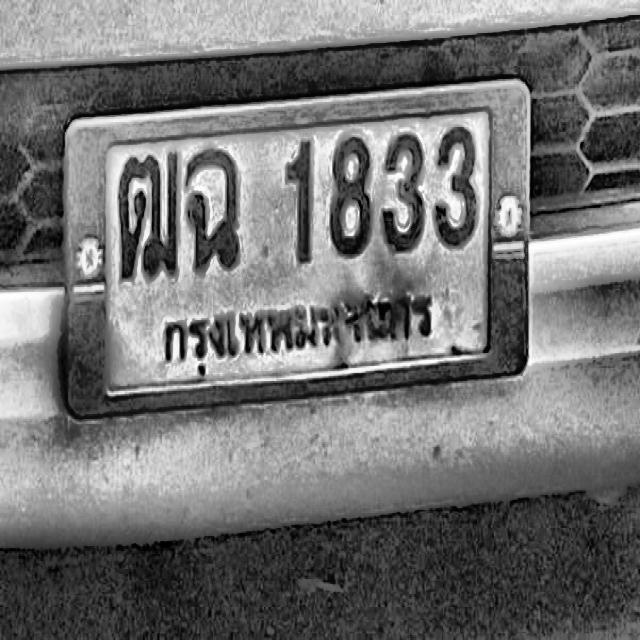license-plate: (58, 71, 536, 434)
